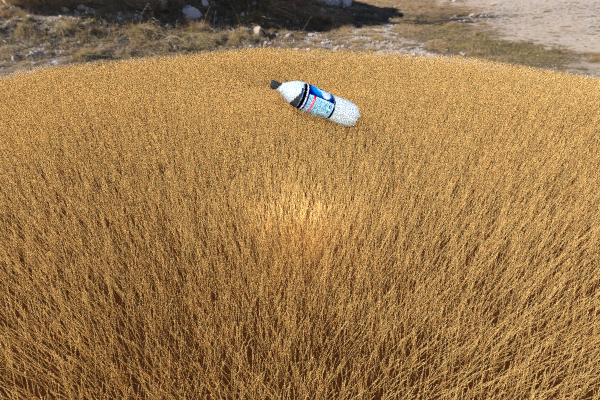Plastic Bottle: (268, 79, 359, 126), (544, 145, 600, 188)
